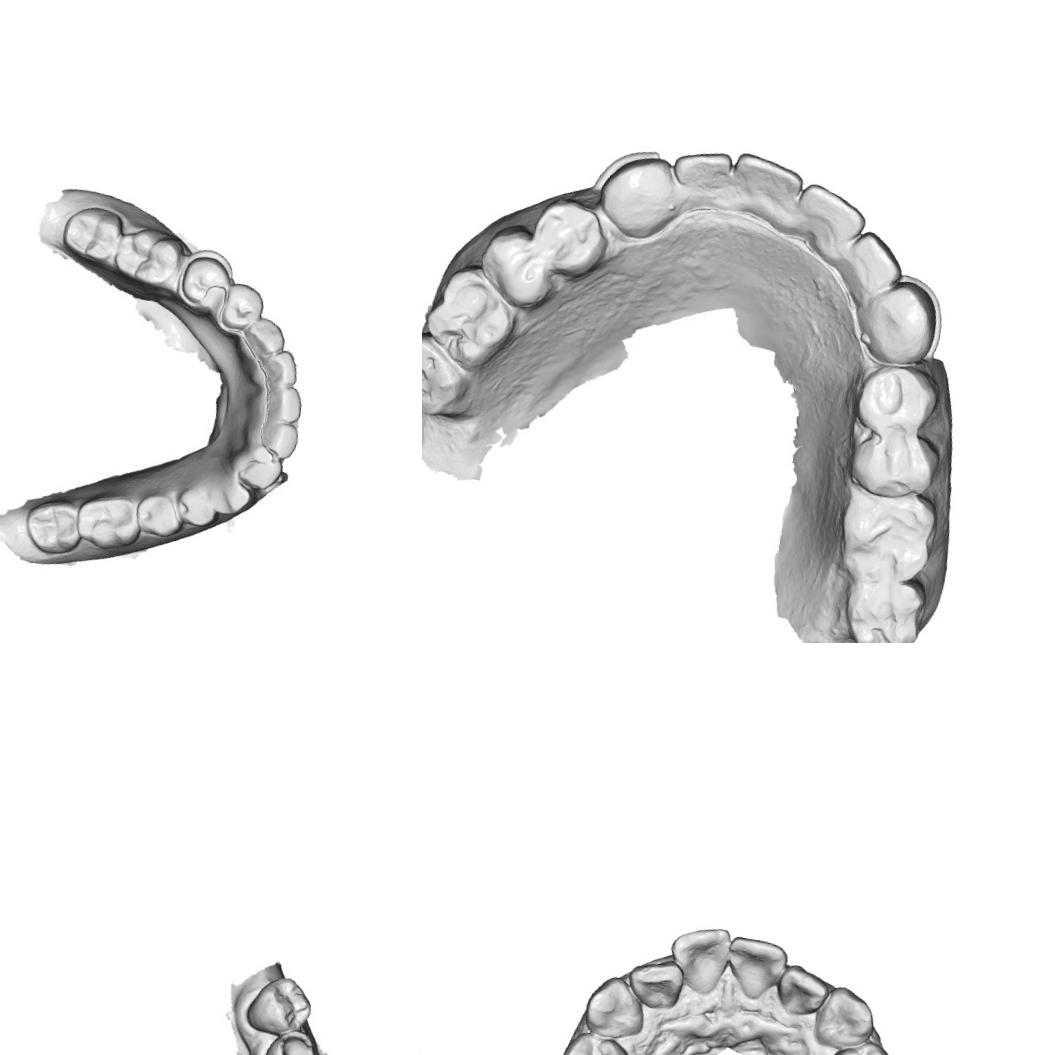canine: (590, 148, 683, 247), (853, 275, 945, 372), (579, 972, 651, 1044), (809, 982, 880, 1055), (238, 314, 288, 364), (207, 472, 253, 518)
incisor: (727, 150, 808, 223), (794, 182, 870, 256), (664, 919, 734, 999), (721, 932, 791, 1004), (839, 226, 907, 294), (668, 144, 737, 210), (624, 954, 687, 1014), (773, 960, 832, 1020), (234, 442, 286, 494), (256, 346, 301, 390), (262, 382, 306, 426), (257, 419, 301, 460)
molar: (422, 261, 524, 376), (834, 482, 943, 588), (838, 573, 928, 643), (110, 222, 187, 290), (422, 327, 476, 423), (72, 489, 145, 554), (58, 202, 126, 268), (22, 494, 88, 558)
premolar: (471, 220, 556, 314), (526, 196, 614, 284), (856, 358, 938, 442), (852, 432, 934, 504), (247, 972, 316, 1040), (177, 250, 236, 312), (132, 489, 187, 540), (218, 280, 266, 335), (556, 1027, 635, 1055), (174, 488, 218, 530), (260, 1027, 320, 1055), (822, 1035, 899, 1055)
